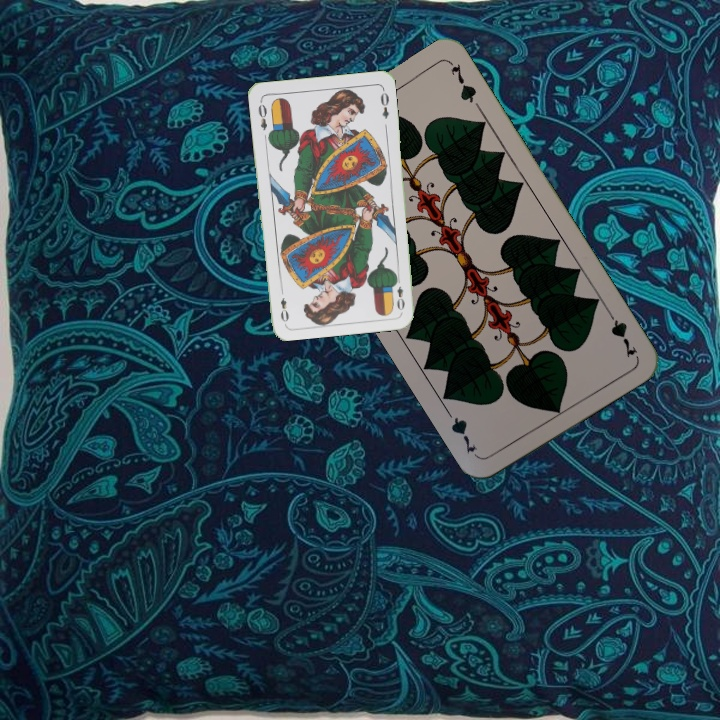EO: (390, 273, 407, 313), (254, 97, 270, 133)
G7: (602, 305, 640, 360)
